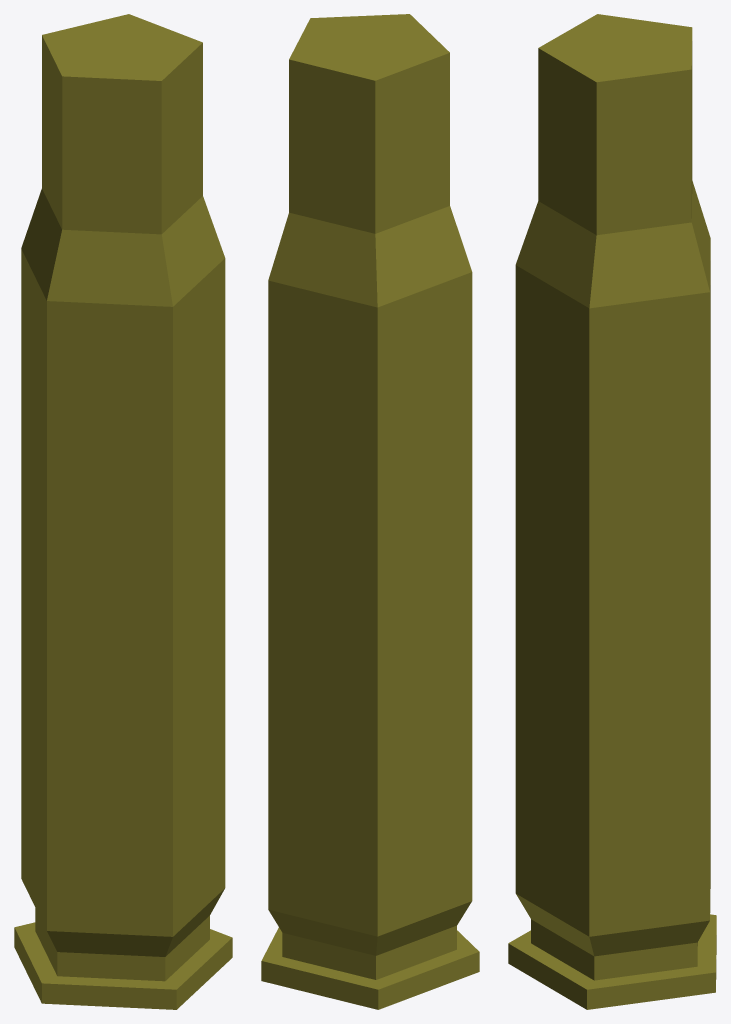
The picture shows the model from 3 angles, left to right: view 1: azimuth 30°, elevation 25°; view 2: azimuth 150°, elevation 25°; view 3: azimuth 270°, elevation 25°; orthographic projection.
Visible parts, largest first — view 1: Plane; view 2: Plane; view 3: Plane.
Part boxes in pixels (x1,y1,x2,y2): Plane: (14, 14, 232, 1009); Plane: (261, 14, 479, 1009); Plane: (508, 14, 716, 1009).
Bounding box in the file's own units: 1.58 × 7.31 × 1.51.
Materials: 1 (1 with a texture image).
